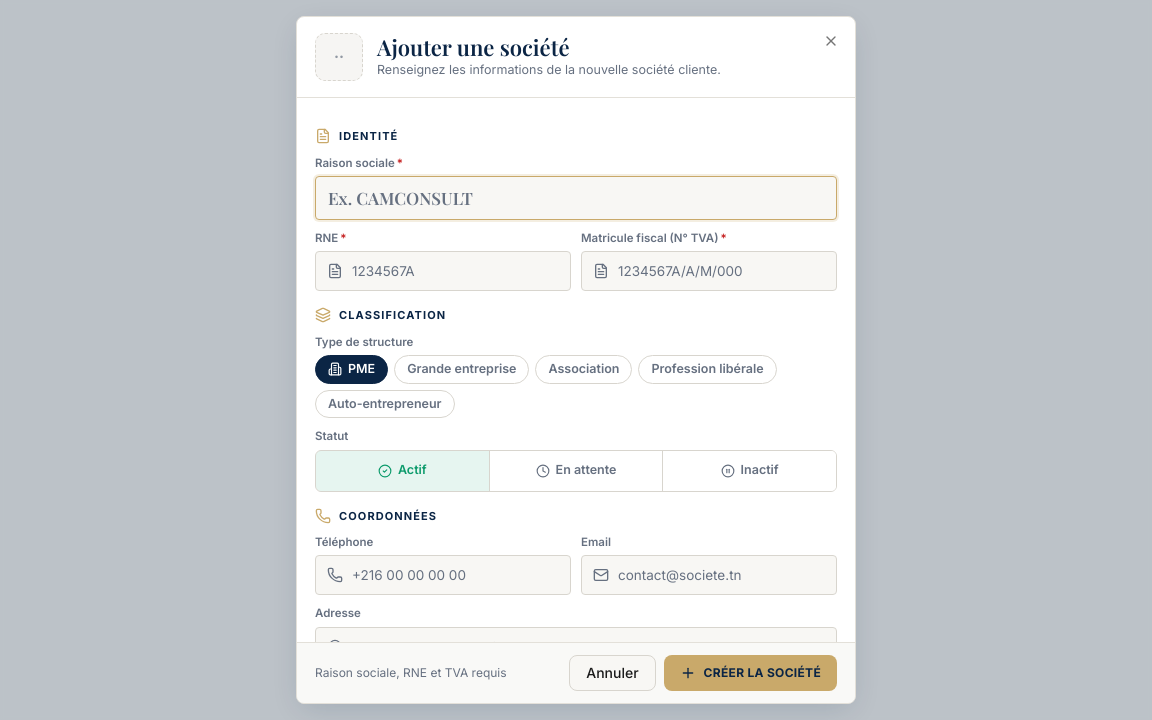
carte de société › en ajout, demande le RNE et la TVA et propose les types en pastilles
This screenshot has width=1152, height=720.
Expected: the text "Renseignez les informations de la nouvelle société cliente." is shown, [377,62,721,77]
Expected: the text "Raison sociale, RNE et TVA requis" is shown, [315,665,507,681]
Click the button "Créer la société" at (750, 673), box [664,655,837,691]
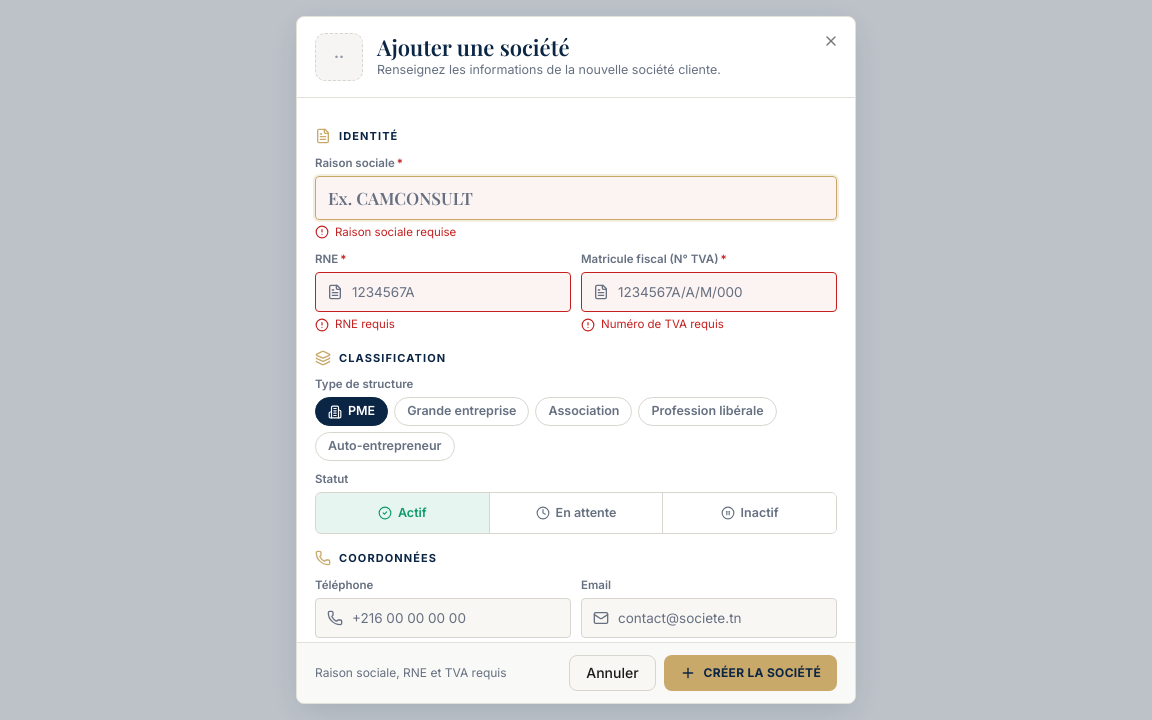
Now the text "Raison sociale requise" is shown, box [315,225,456,239]
Now the text "RNE requis" is shown, box [315,317,395,332]
Now the text "Numéro de TVA requis" is shown, box [581,317,724,332]
